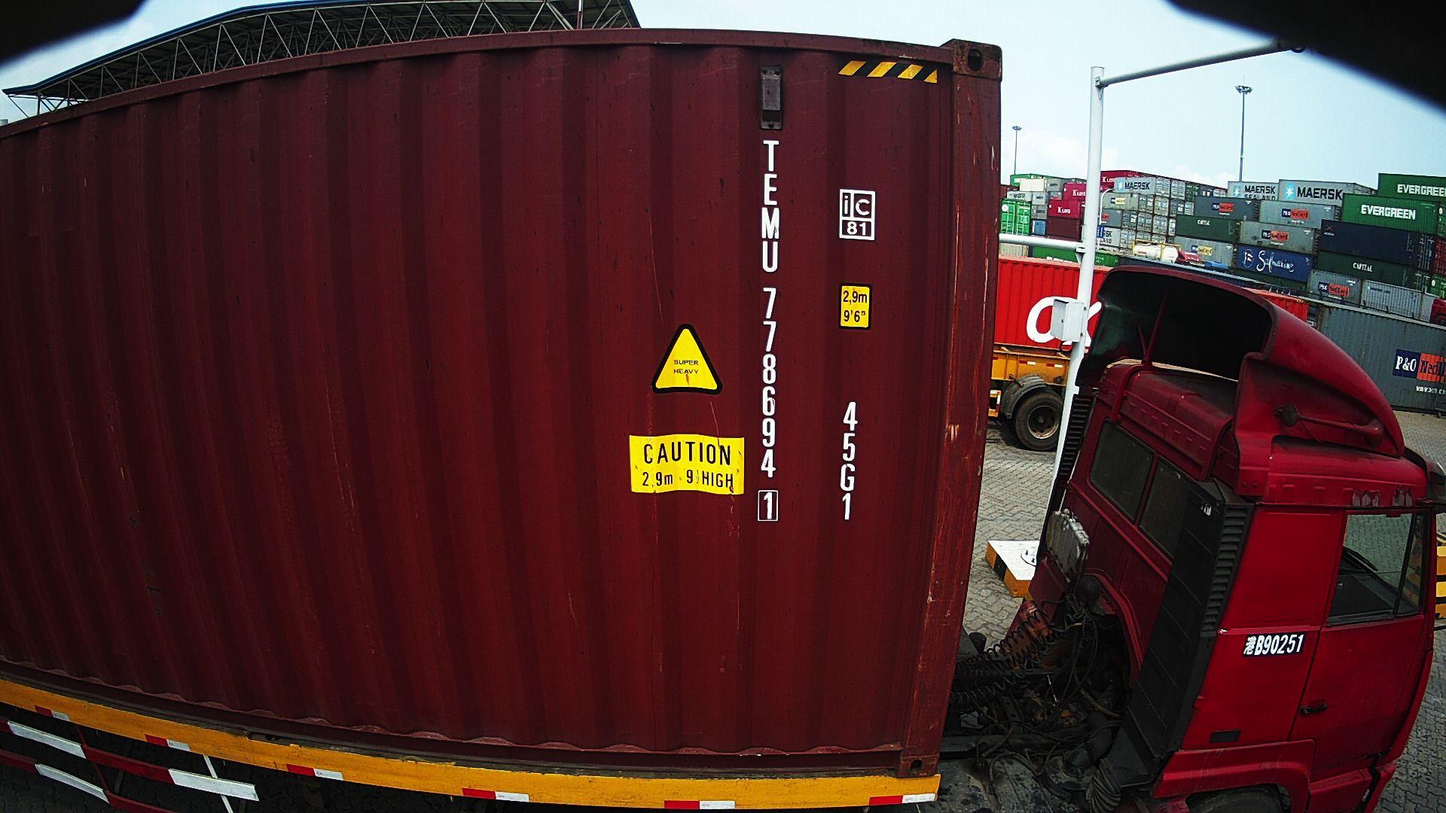container-numbers: (749, 134, 785, 531), (835, 396, 860, 525)
